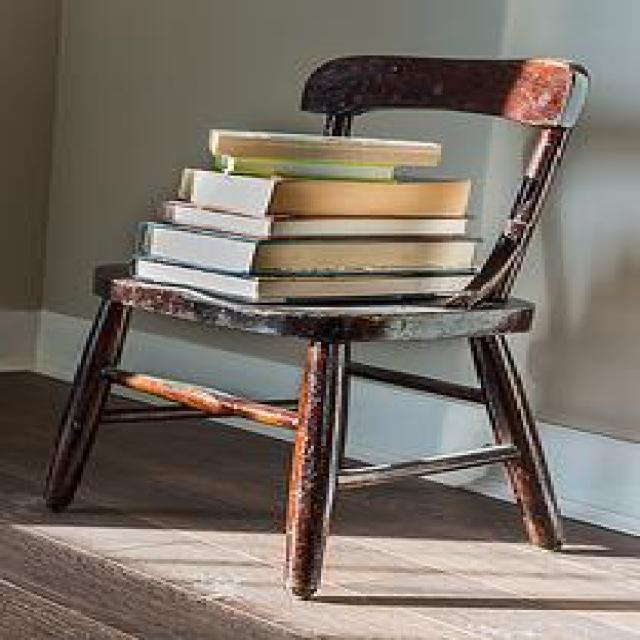chair: (40, 53, 591, 599)
